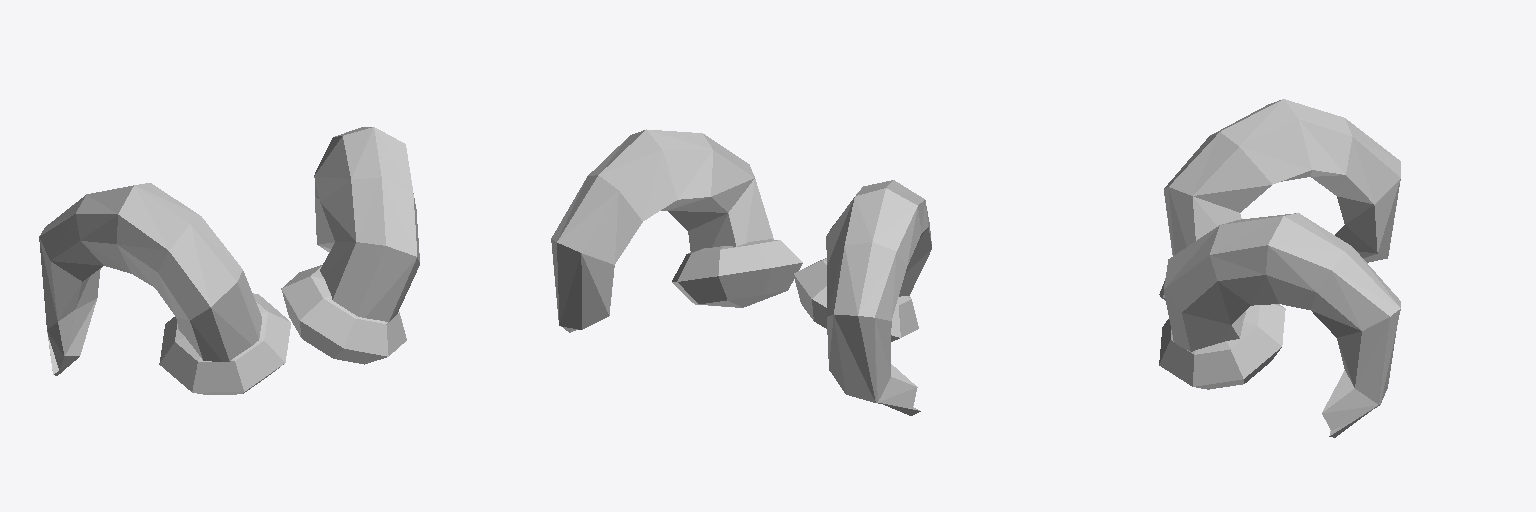
Rendered from goat_horns.obj.
3 renders of one model, left to right at view 1: azimuth 30°, elevation 25°; view 2: azimuth 150°, elevation 25°; view 3: azimuth 270°, elevation 25°, orthographic.
Parts seen in each view (by area): view 1: Cube.019_Cube.008, Cube.026_Cube.015; view 2: Cube.019_Cube.008, Cube.026_Cube.015; view 3: Cube.019_Cube.008, Cube.026_Cube.015.
Part boxes in pixels (x1,y1,x2,y2): Cube.019_Cube.008: (39, 127, 419, 375); Cube.026_Cube.015: (159, 265, 406, 394); Cube.019_Cube.008: (551, 129, 931, 415); Cube.026_Cube.015: (672, 239, 918, 341); Cube.019_Cube.008: (1164, 99, 1400, 437); Cube.026_Cube.015: (1159, 281, 1285, 389).
Size of the model in its own units: 0.9568 by 0.5058 by 0.5624.